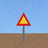sign: (16, 12, 31, 42)
